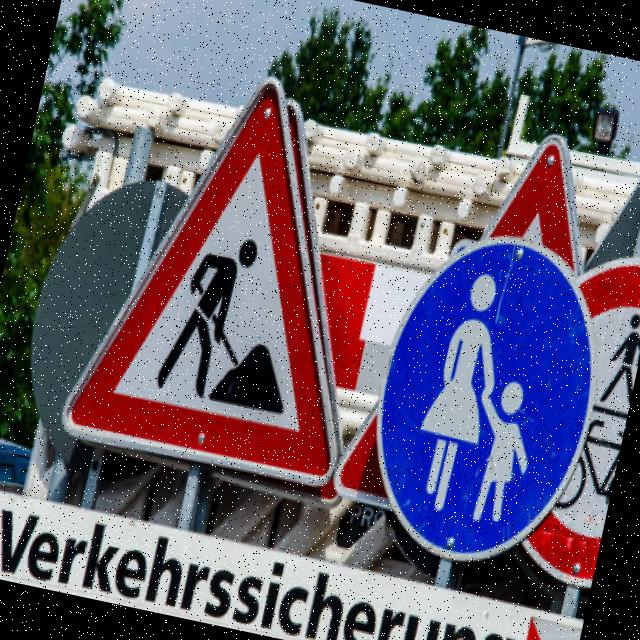road_work: (61, 60, 403, 498)
